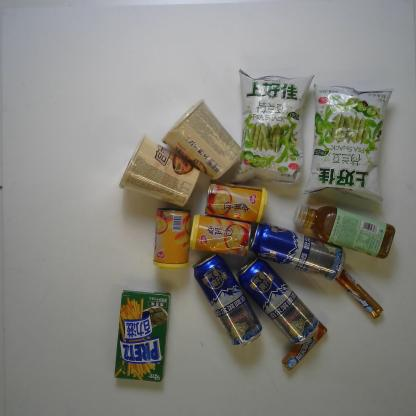Alcohol: (233, 254, 325, 352), (190, 249, 264, 350), (245, 223, 348, 281)
Candy: (334, 265, 384, 321), (280, 318, 328, 373)
Canned Food: (186, 212, 258, 258), (151, 203, 195, 272), (202, 183, 272, 223)
Dessert: (110, 290, 174, 388)
Drink: (290, 203, 398, 262)
Instant Noodles: (115, 132, 205, 209), (162, 100, 242, 178)
Puffed Food: (305, 82, 397, 205), (237, 64, 311, 191)
